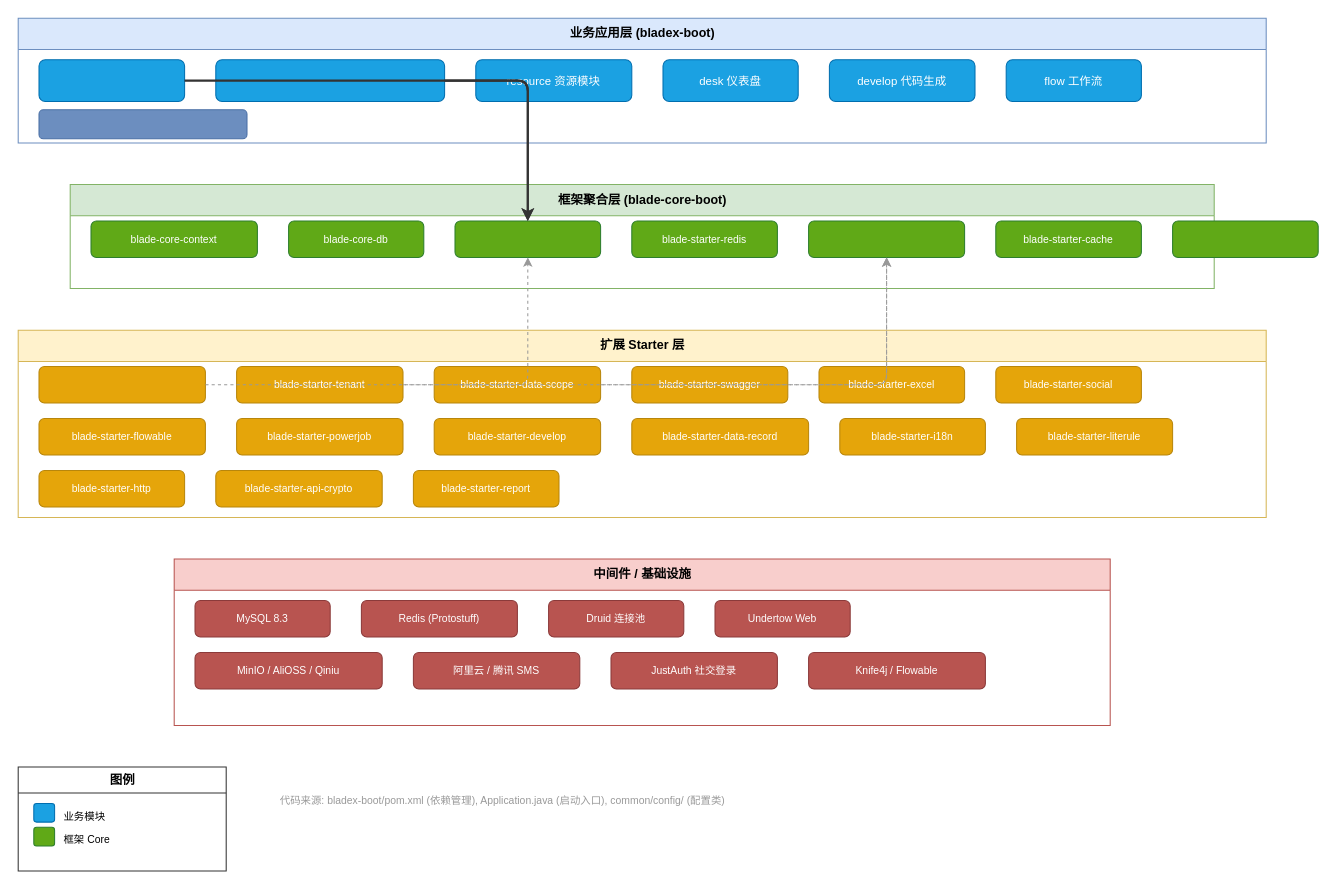
The diagram is 1336 pixels wide and 889 high, and some of its shapes have lost their labels. The shapes that lost their labels are listed below. From the top down, each one's centre as x and y in pixels, then its label:
the point at 111,80: auth 认证模块
the point at 330,80: system 系统模块 (22 Controllers)
the point at 142,124: common 通用 (28 files)
the point at 527,238: blade-core-secure
the point at 886,238: blade-starter-mybatis
the point at 1245,238: blade-starter-log / xss
the point at 121,384: blade-core-oauth2
